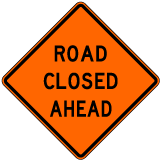Road_workahead: (3, 1, 160, 160)
